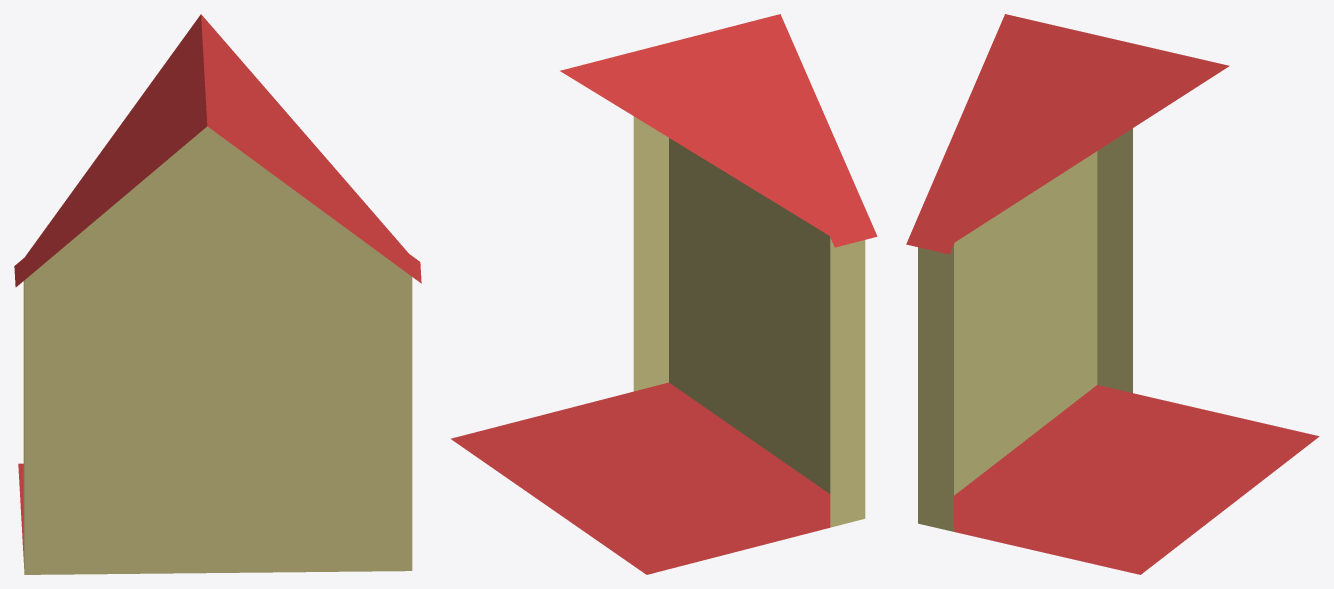
3 views of the same model, side by side, from view 1: azimuth 30°, elevation 25°; view 2: azimuth 150°, elevation 25°; view 3: azimuth 270°, elevation 25° (orthographic). The views are drawn at different scales.
Size of the model in its own units: 13.08 by 11.73 by 13.59.
